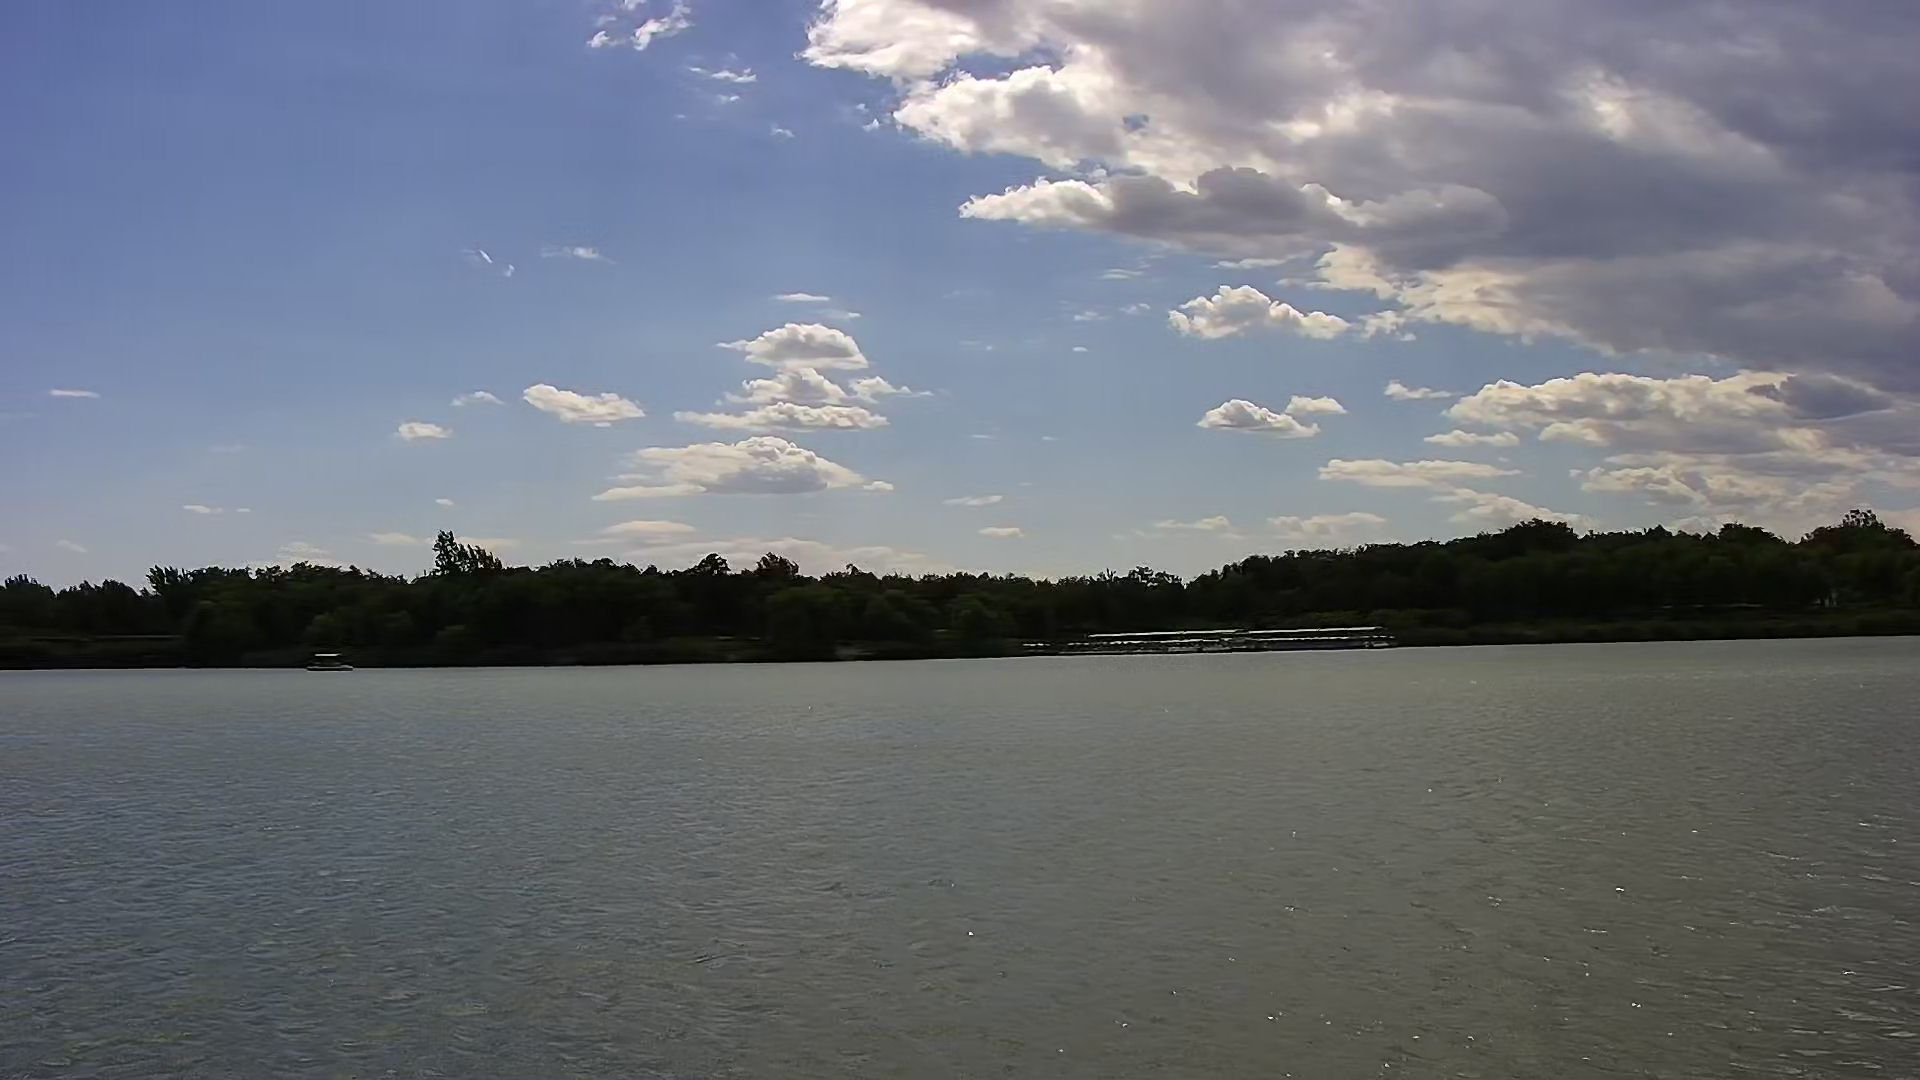boat: (303, 647, 353, 674)
harbor: (1027, 620, 1391, 659)
